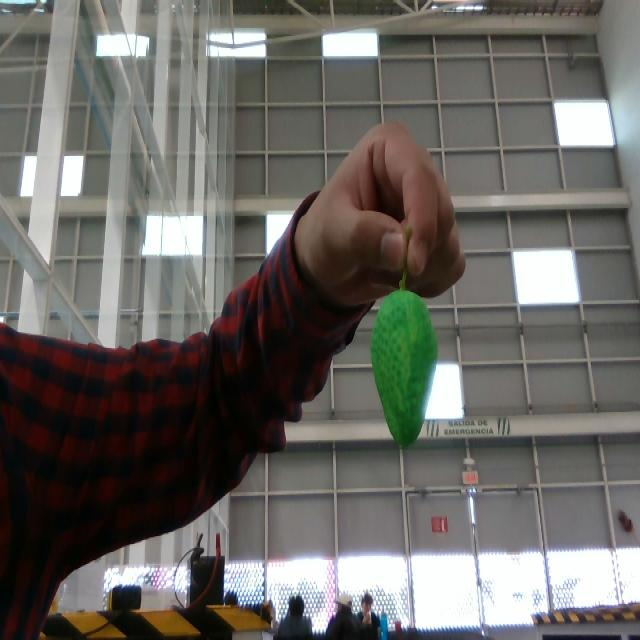verde: (368, 290, 436, 446)
